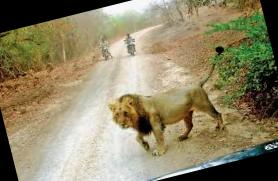lions: (95, 52, 260, 156)
